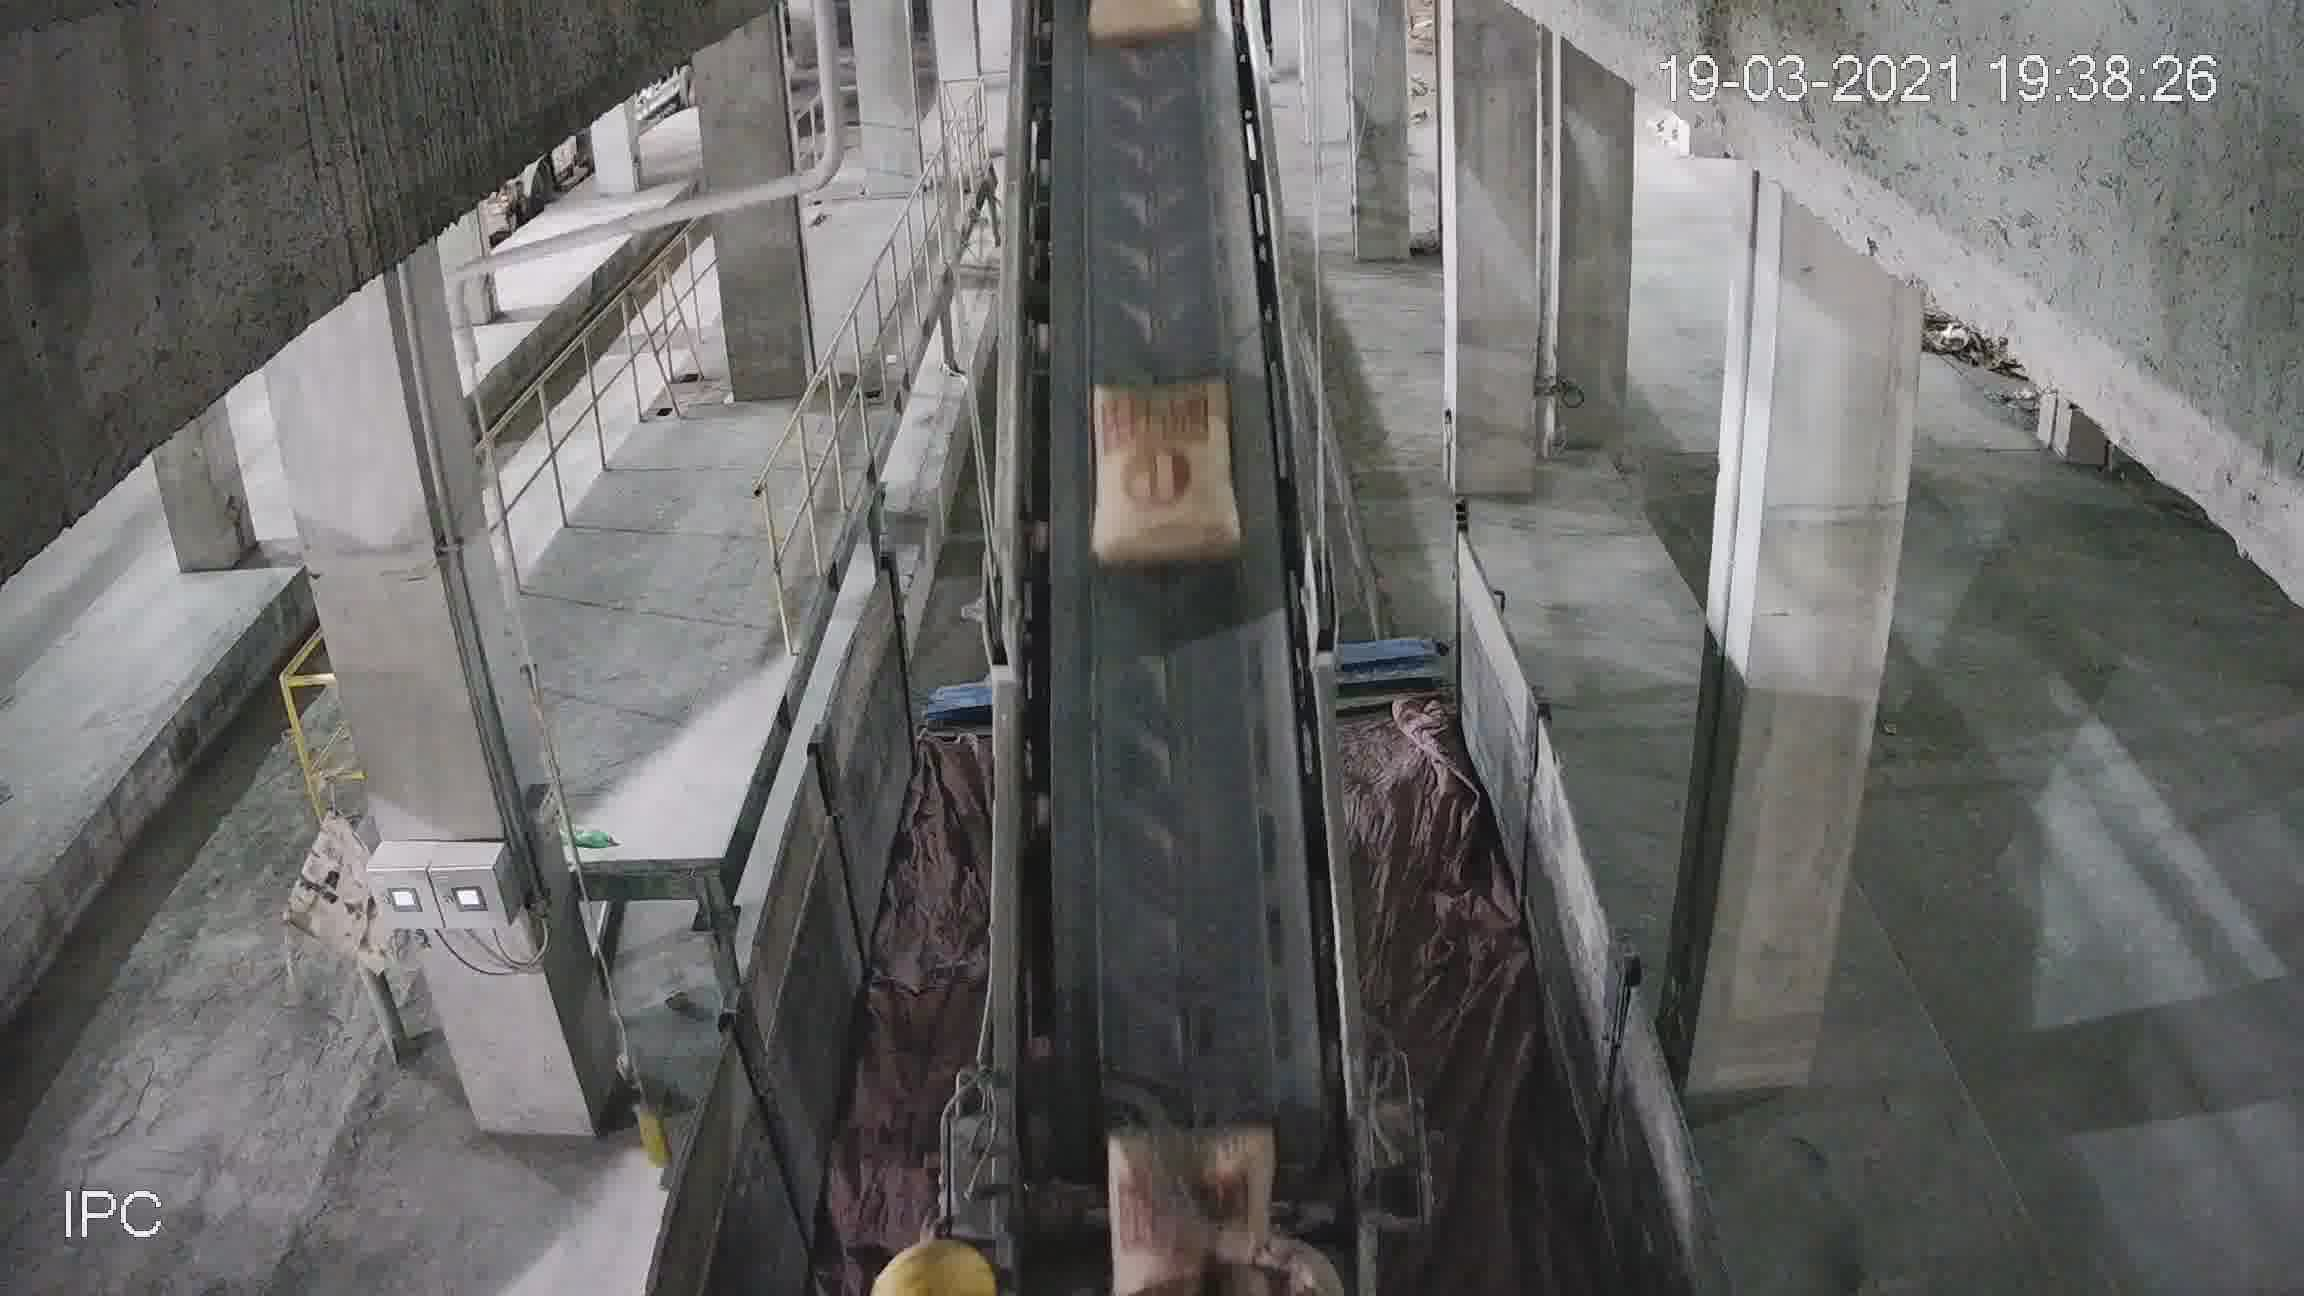bag: (1100, 381, 1236, 559), (1109, 1119, 1269, 1250)
belt: (1006, 166, 1329, 1237)
